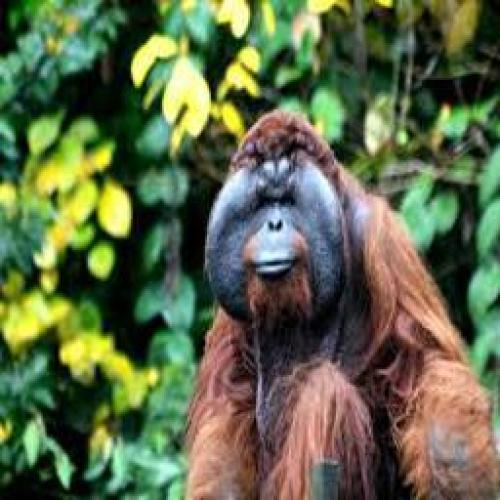orangutan-endangered: (159, 110, 499, 494)
